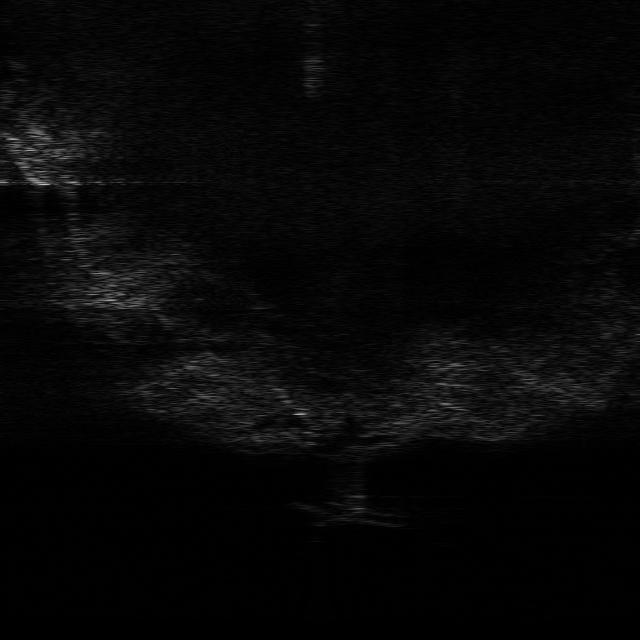plane: (294, 501, 402, 530)
